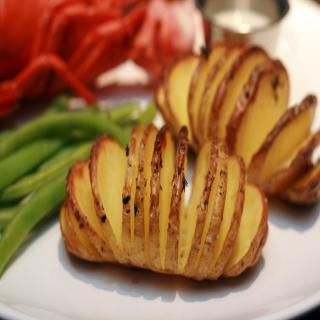Potato: (59, 124, 268, 281), (154, 41, 320, 204)
